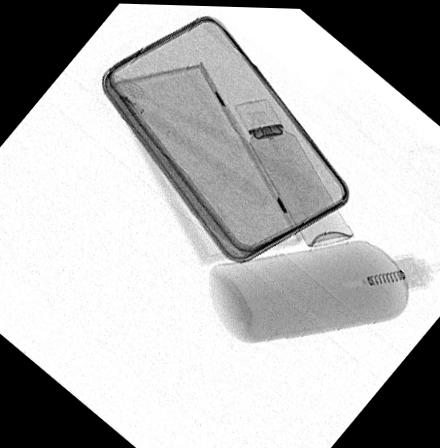Sprayer: (234, 97, 353, 245)
